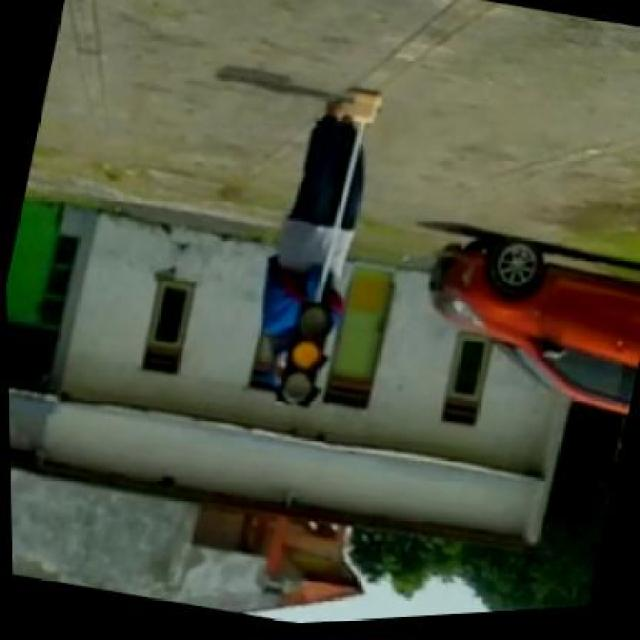yellow_light: (274, 302, 337, 416)
